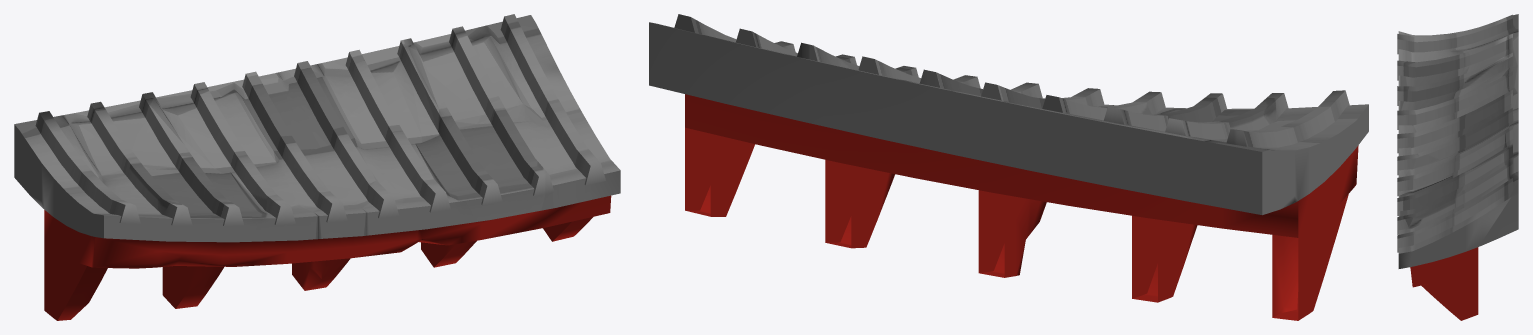
Rendered from SM_Bld_Kawara_Eave_Tip_Far_01.fbx.
3 renders of one model, left to right at view 1: azimuth 30°, elevation 25°; view 2: azimuth 150°, elevation 25°; view 3: azimuth 270°, elevation 25°, orthographic. The views are drawn at different scales.
Parts seen in each view (by area): view 1: SM_Bld_Kawara_Eave_Tip_Far_01; view 2: SM_Bld_Kawara_Eave_Tip_Far_01; view 3: SM_Bld_Kawara_Eave_Tip_Far_01.
Part boxes in pixels (x1=…): SM_Bld_Kawara_Eave_Tip_Far_01: x1=14, y1=14, x2=620, y2=320; SM_Bld_Kawara_Eave_Tip_Far_01: x1=649, y1=14, x2=1368, y2=320; SM_Bld_Kawara_Eave_Tip_Far_01: x1=1397, y1=14, x2=1518, y2=320.
Bounding box in the file's own units: 5 × 2 × 1.52.
